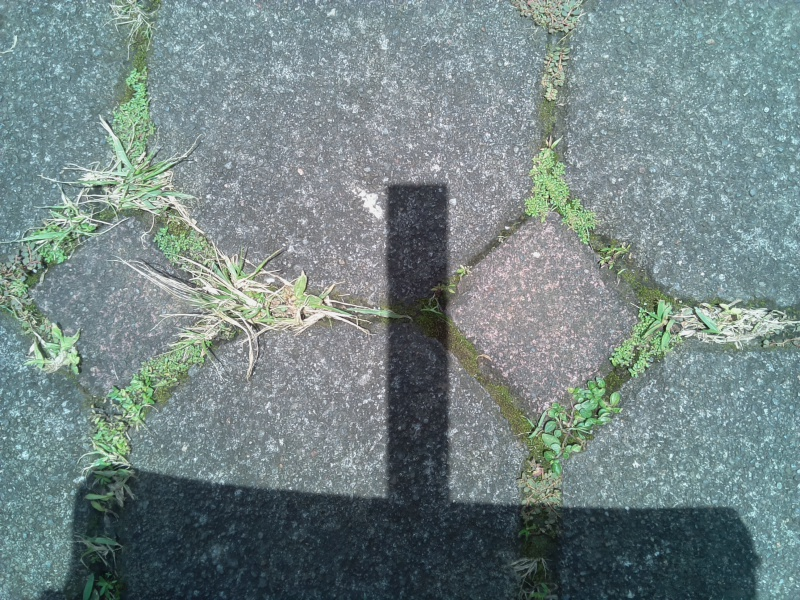Weed: (149, 254, 346, 335), (611, 298, 791, 376), (508, 1, 591, 104), (81, 139, 187, 217), (525, 147, 597, 245), (532, 380, 619, 459), (129, 335, 220, 404), (81, 413, 136, 511), (111, 72, 156, 167), (512, 470, 570, 542), (29, 206, 91, 263), (76, 537, 128, 600), (34, 322, 86, 376)
